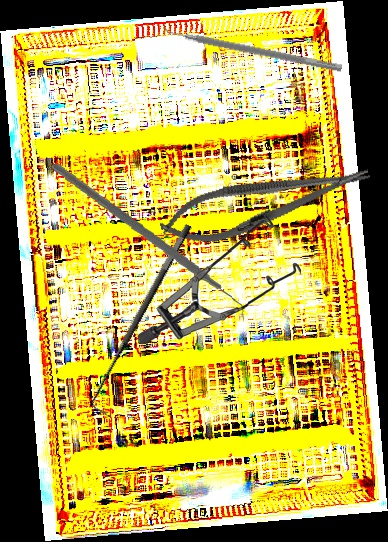Chopper: (40, 163, 256, 326)
Hook Surgical: (81, 221, 207, 418)
Needle Holder: (154, 149, 377, 256)
Spatula Surgical: (161, 21, 344, 73)
Speculum: (135, 214, 303, 345)
